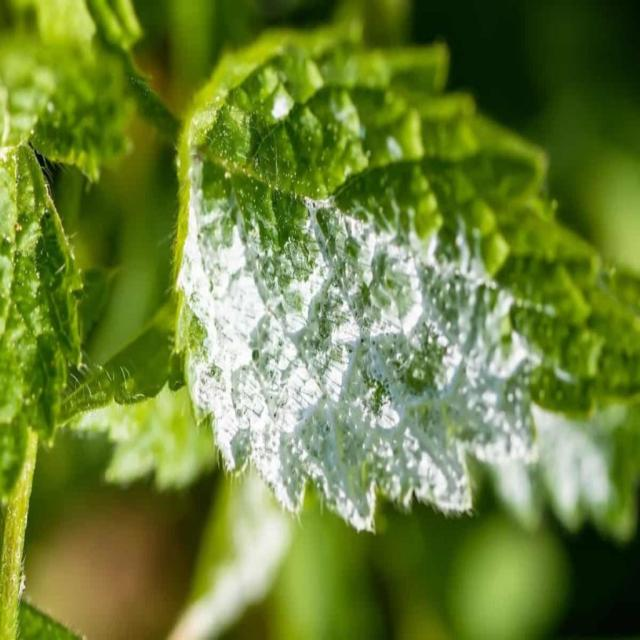Powdery Mildew: (174, 151, 544, 535)
